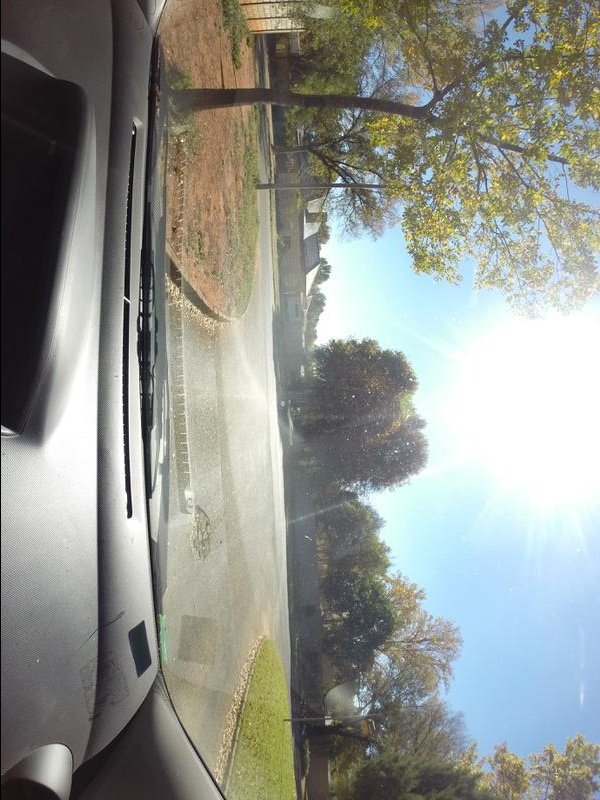pothole: (191, 511, 217, 558)
